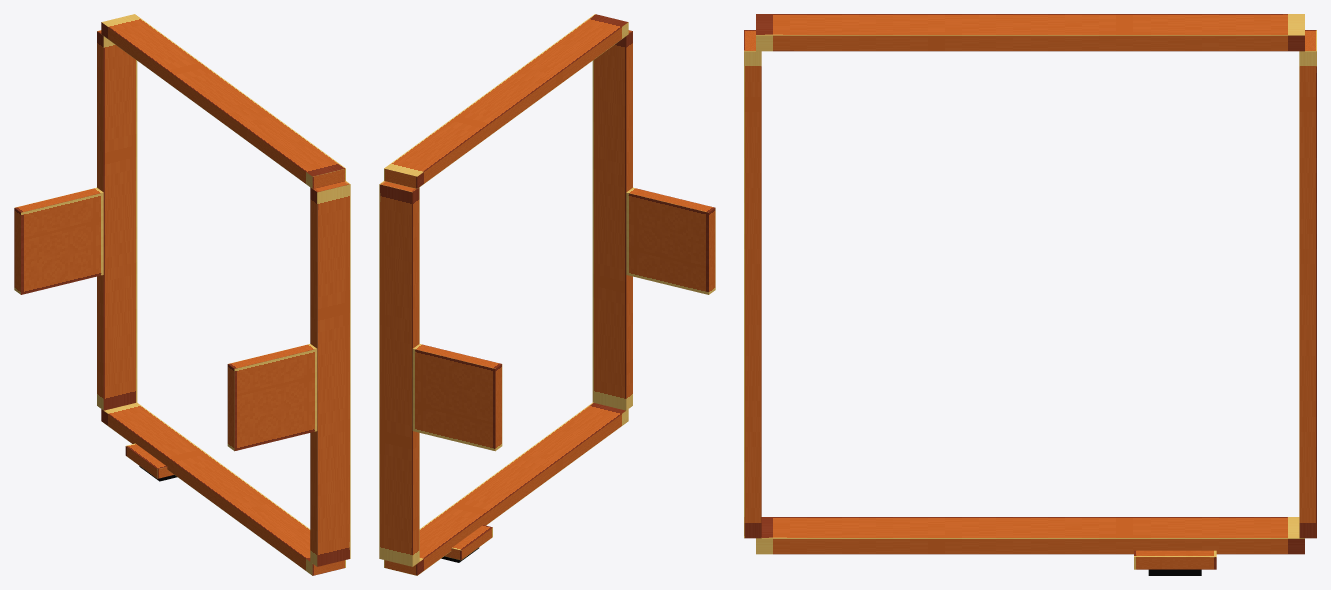
The model's file is bench_helmet_5_hot.obj.
3 views of the same model, side by side, from view 1: azimuth 30°, elevation 25°; view 2: azimuth 150°, elevation 25°; view 3: azimuth 270°, elevation 25° (orthographic). The views are drawn at different scales.
Parts seen in each view (by area): view 1: geometry; view 2: geometry; view 3: geometry.
Part boxes in pixels (box(x1,y1,x2,y2)): geometry: box(14, 14, 350, 575); geometry: box(379, 14, 715, 575); geometry: box(744, 14, 1316, 575).
Bounding box in the file's own units: 0.0794 × 0.25 × 0.2406.
